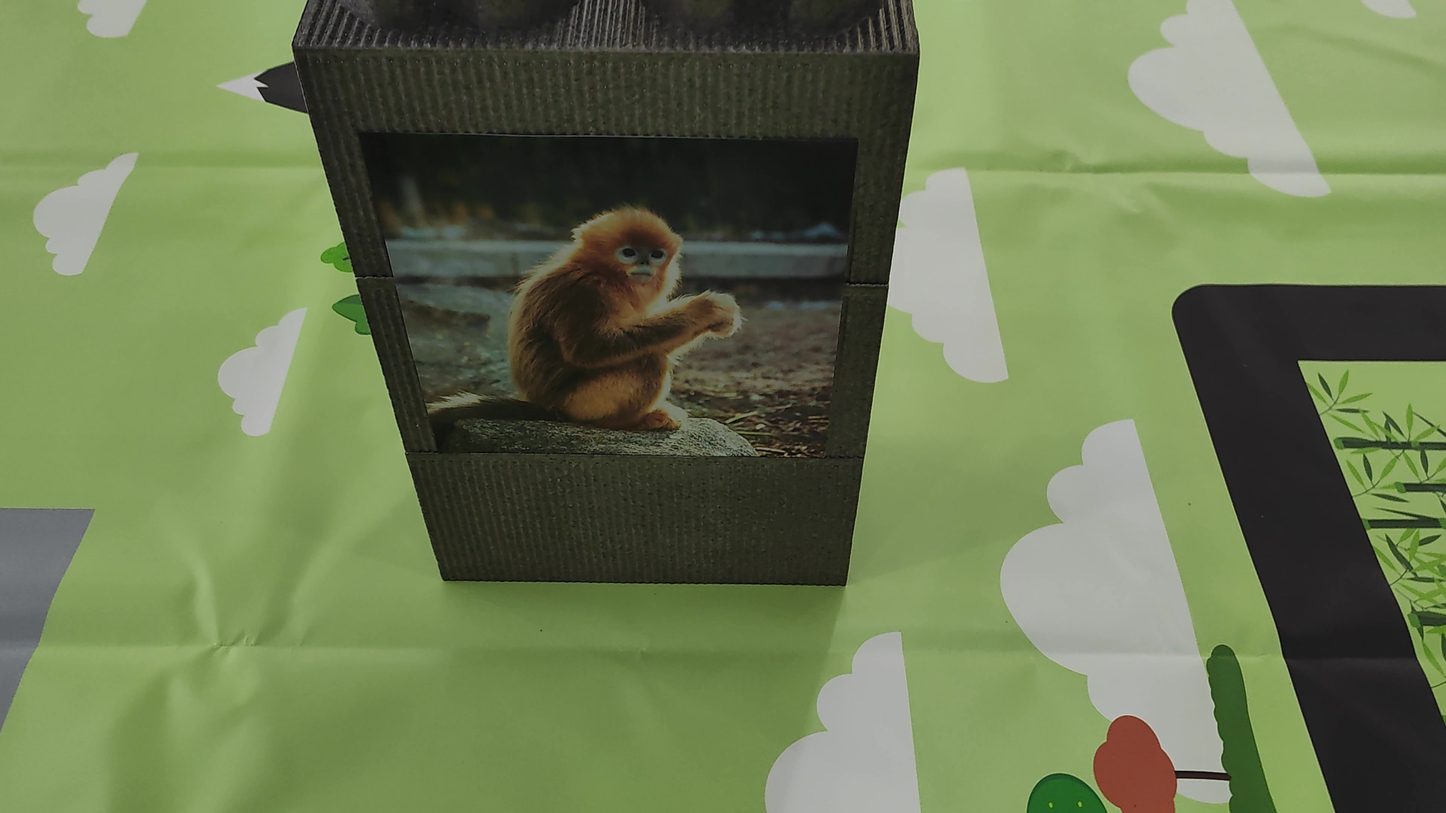monkey: (466, 175, 801, 454)
